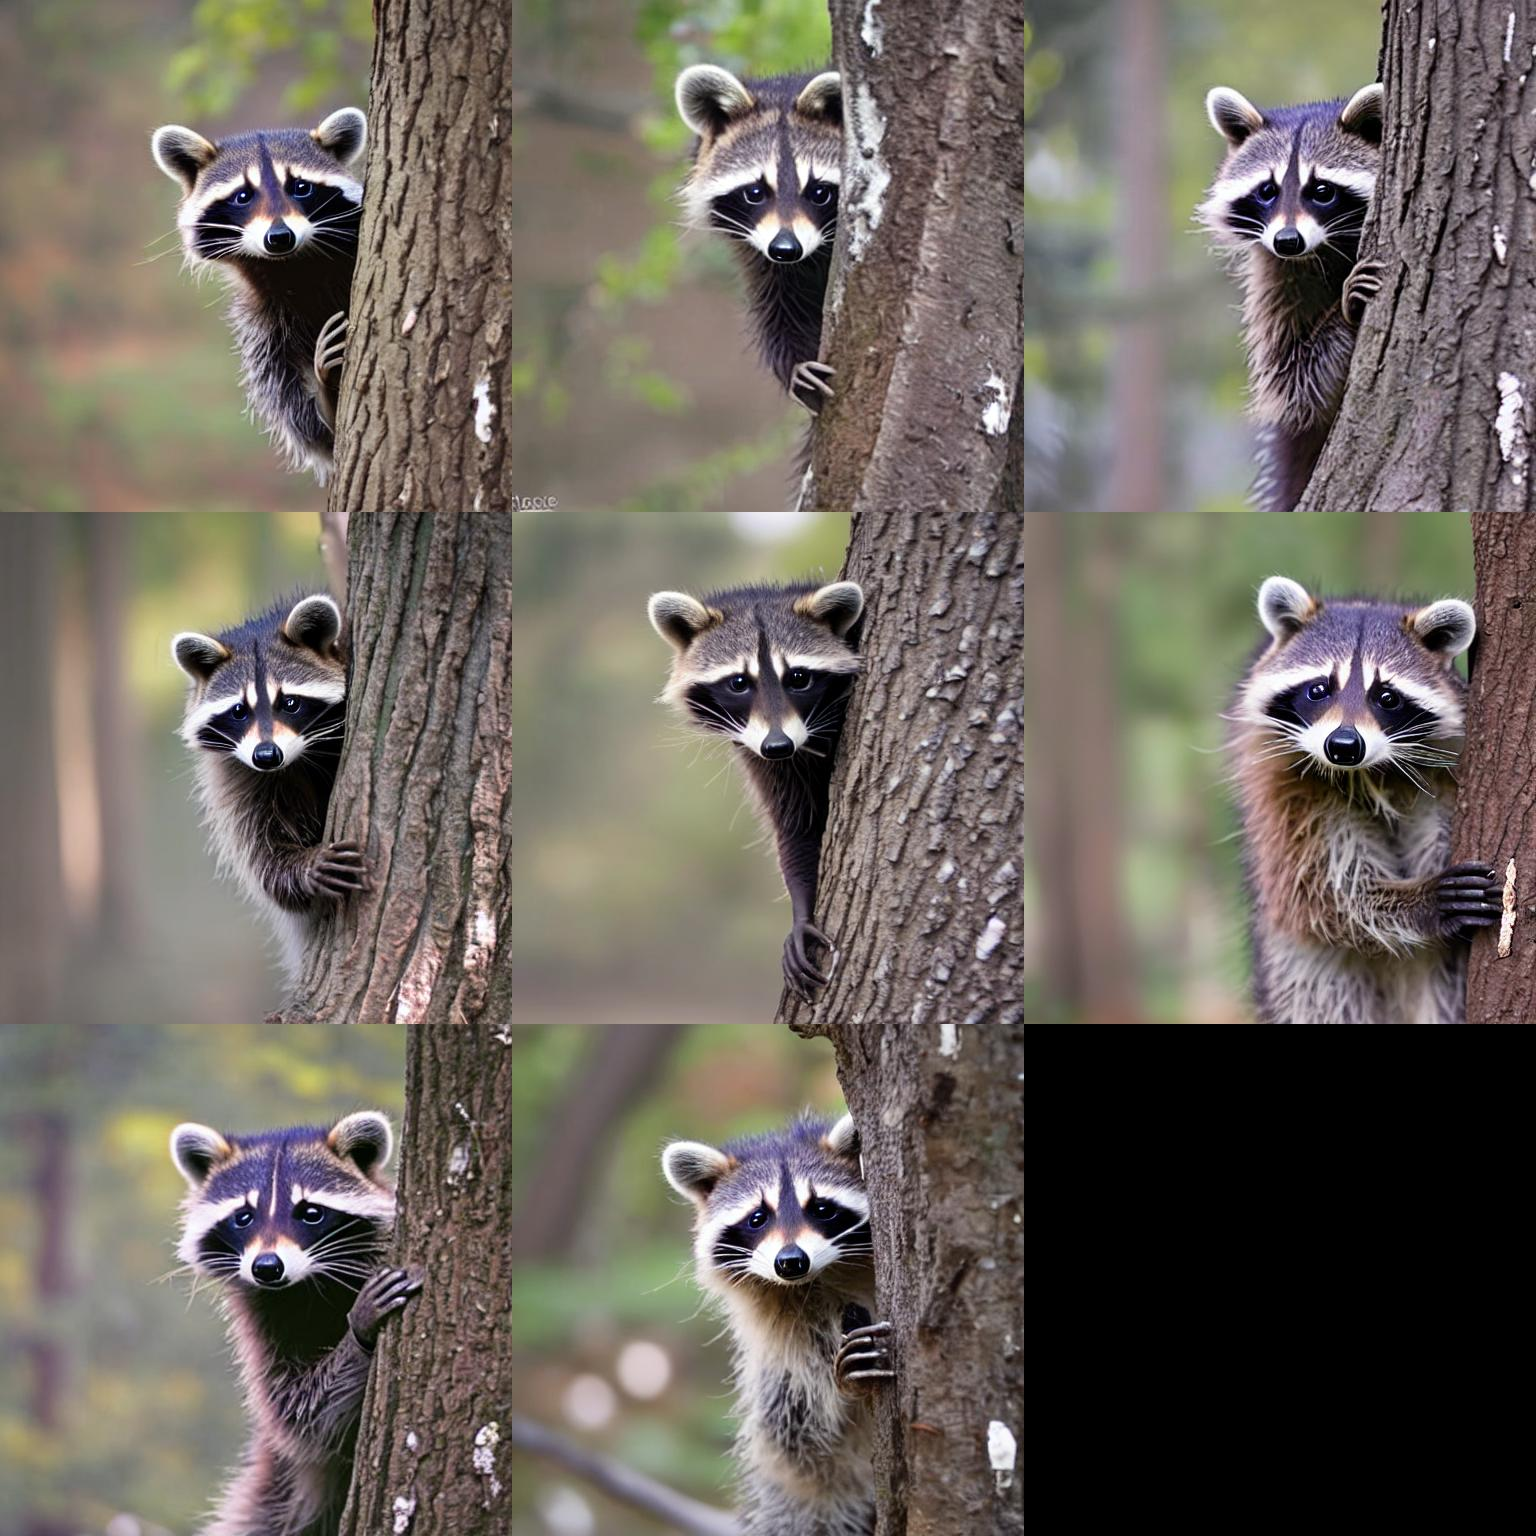raccoon: (1211, 563, 1477, 1023), (160, 1094, 402, 1536), (1175, 68, 1402, 504), (141, 100, 373, 487), (655, 1100, 855, 1536), (639, 564, 872, 913), (658, 46, 855, 392), (162, 581, 347, 940)
